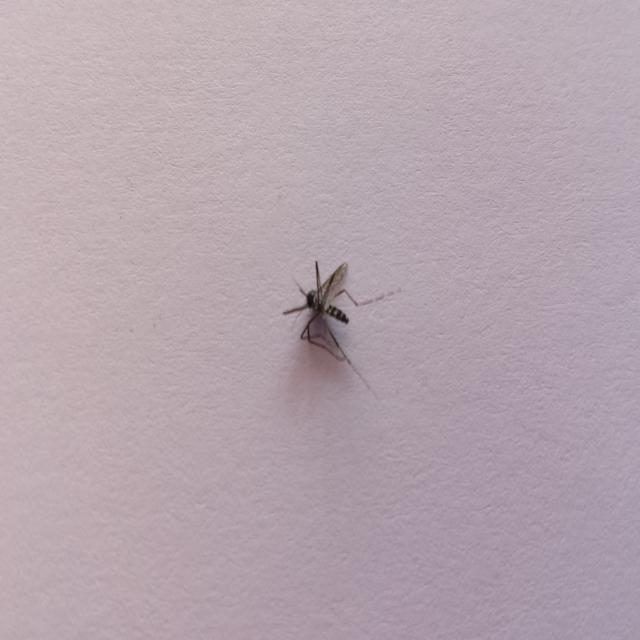albopictus: (282, 247, 391, 388)
